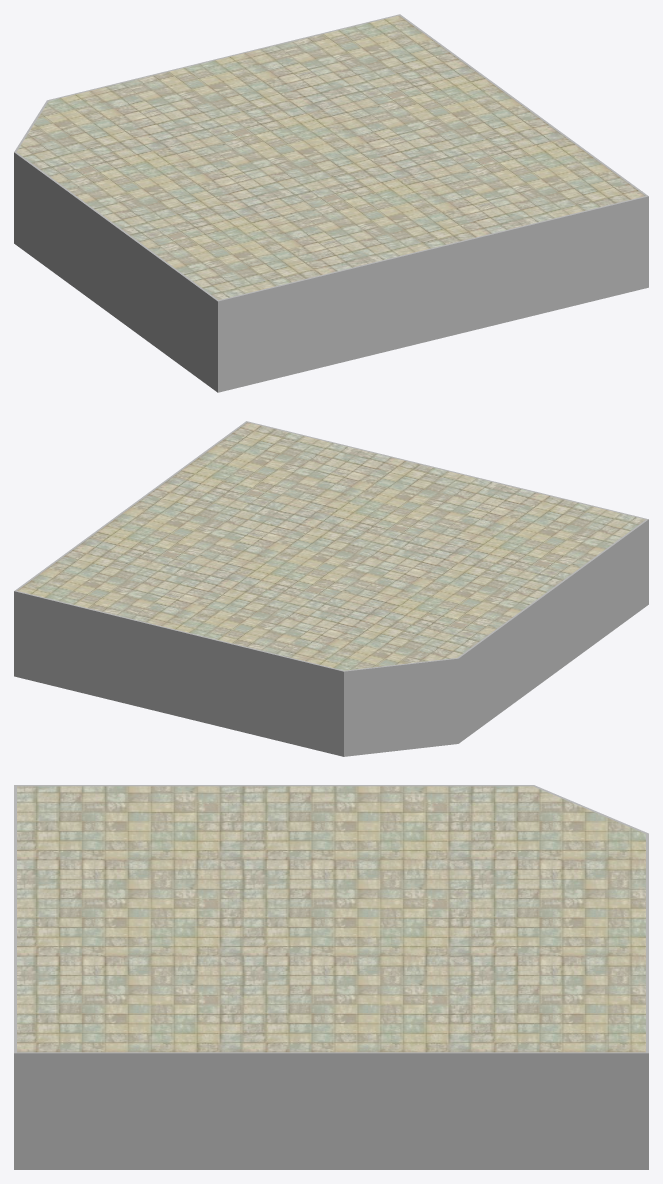
Rendered from road_w01_co02.fbx.
3 renders of one model, top to bottom at view 1: azimuth 30°, elevation 25°; view 2: azimuth 150°, elevation 25°; view 3: azimuth 270°, elevation 25°, orthographic. The views are drawn at different scales.
Parts seen in each view (by area): view 1: road_w01_co02; view 2: road_w01_co02; view 3: road_w01_co02.
Boxes of the visible parts, bbox=[...] form: road_w01_co02: bbox=[14, 14, 648, 392]; road_w01_co02: bbox=[14, 421, 648, 756]; road_w01_co02: bbox=[14, 785, 648, 1169].
Size of the model in its own units: 11.04 by 2.24 by 11.04.
